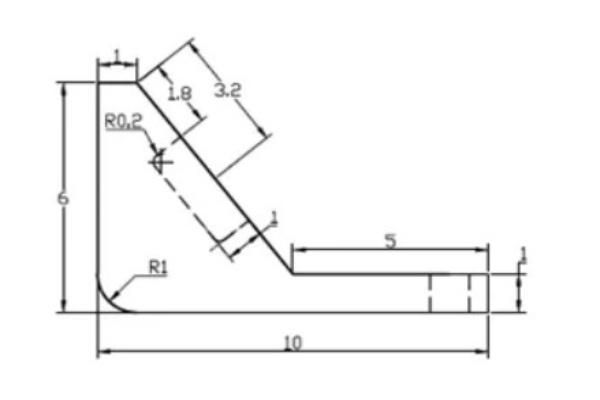dimensions: (260, 324, 316, 354), (96, 108, 152, 132), (373, 226, 410, 257), (204, 80, 255, 101), (156, 82, 201, 103), (142, 253, 176, 277), (51, 191, 78, 211)
